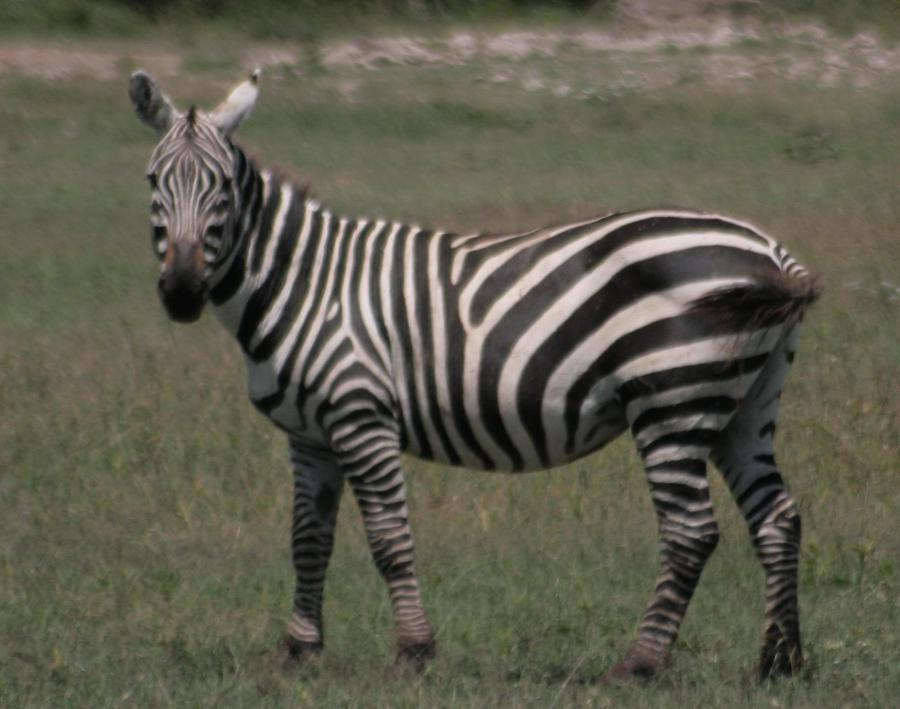zebra_plains: (259, 178, 766, 490)
